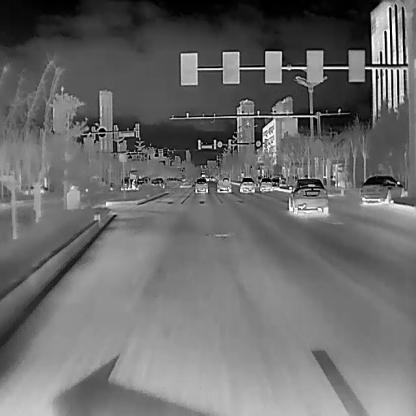car: (286, 176, 328, 216), (358, 175, 408, 204), (216, 174, 231, 192), (239, 176, 255, 192), (259, 176, 272, 192), (194, 177, 207, 193)
